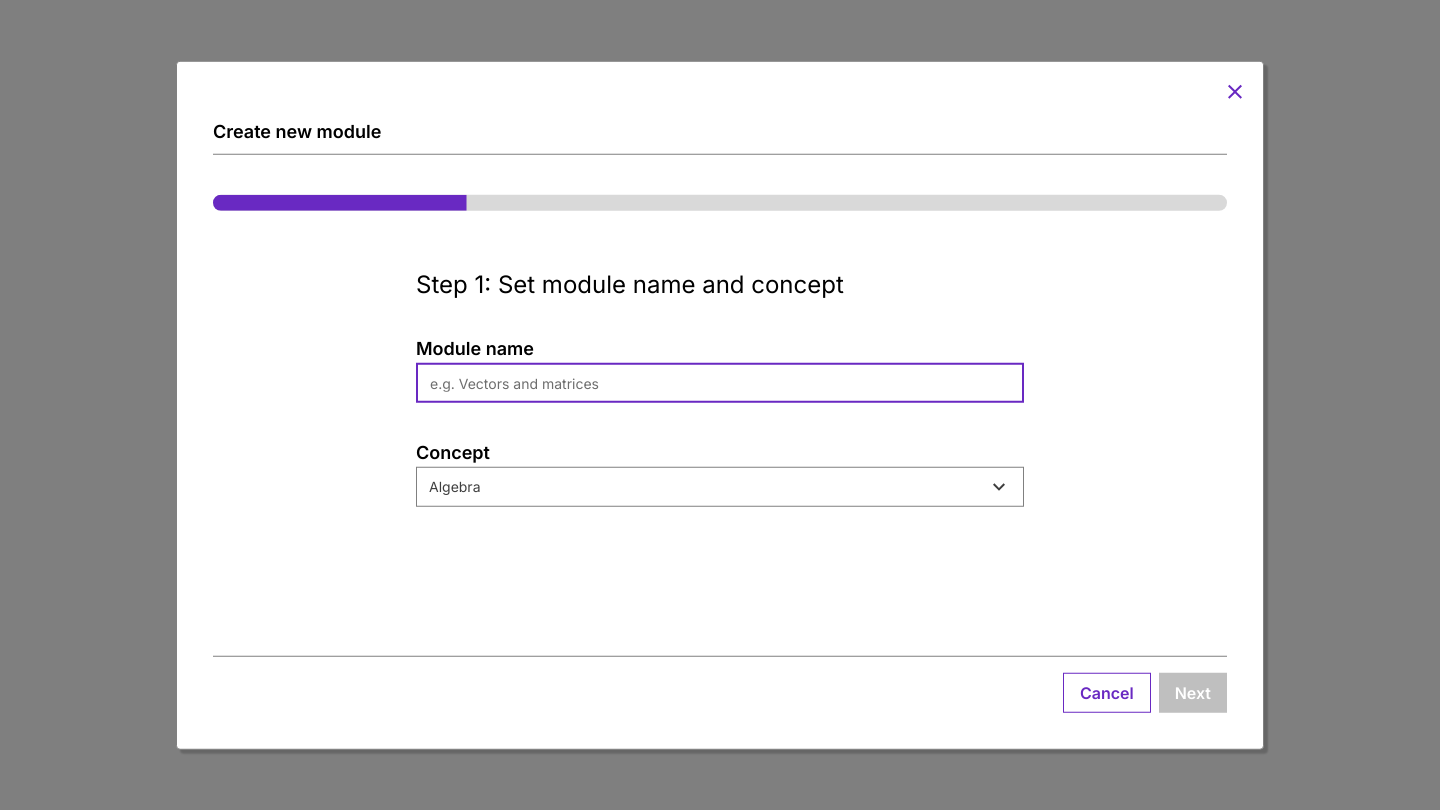
CourseWizard › blinks the in-progress status label (in #0055B7) while a file is ingesting
Type "Vectors" into the field labelled "Module name" at (720, 383), box [416, 363, 1024, 403]
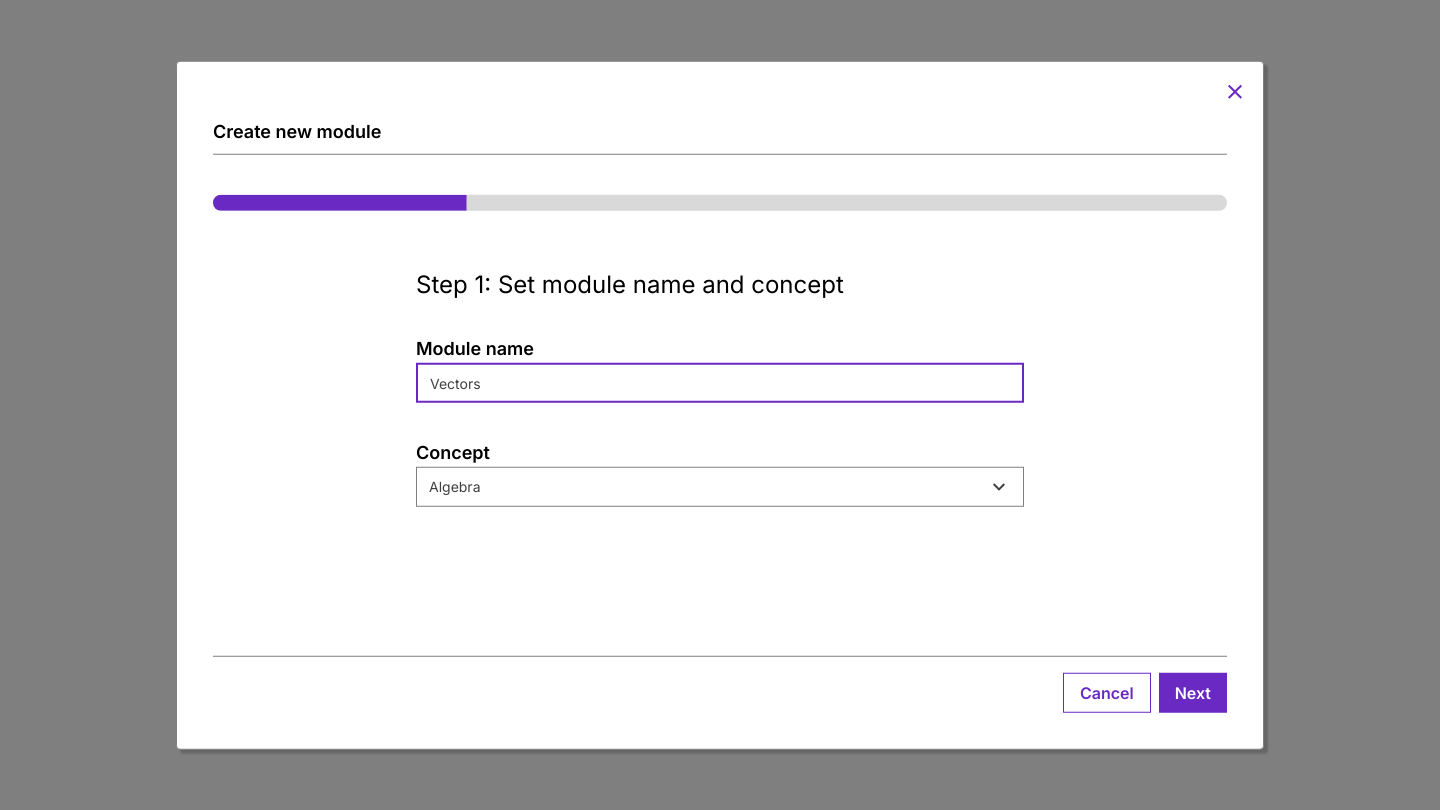
Click the button "Next" at (1193, 692), box [1159, 672, 1227, 712]
(page scrolled)
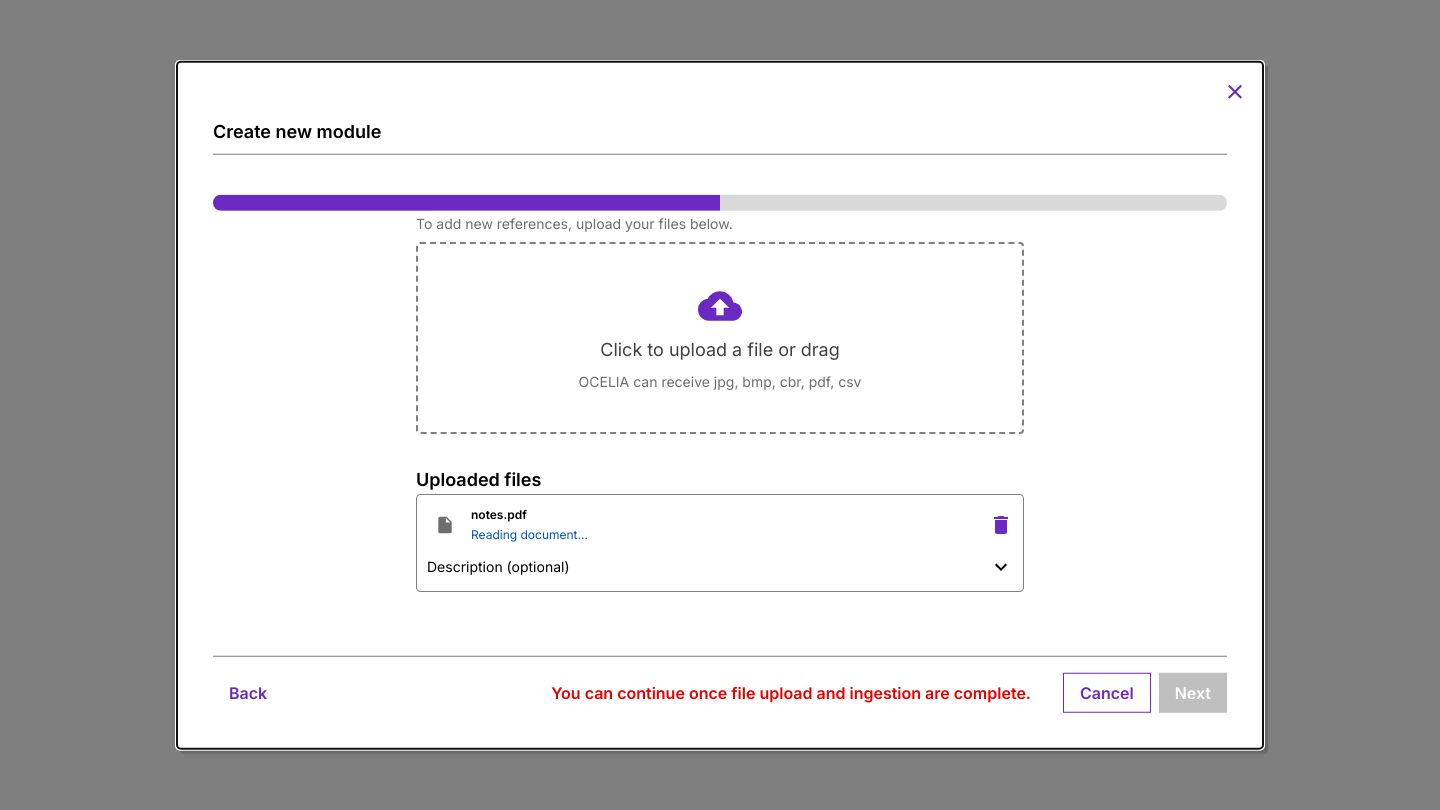
Expected: the text "Reading document…" is shown, [471, 525, 588, 545]
